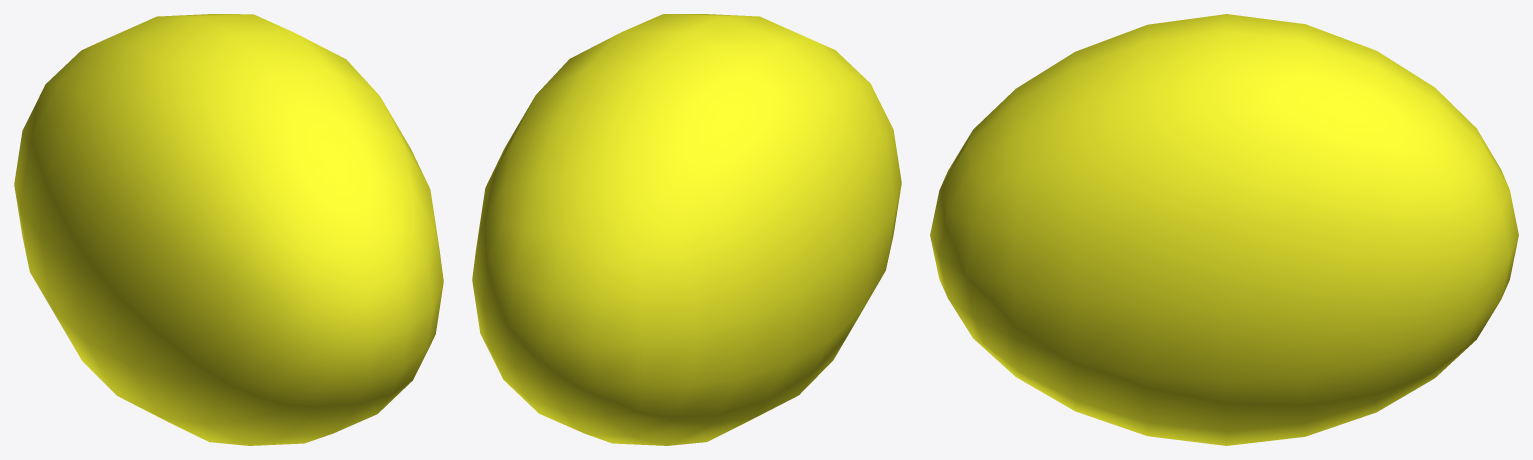
File: kentang utuh.fbx
The picture shows the model from 3 angles, left to right: view 1: azimuth 30°, elevation 25°; view 2: azimuth 150°, elevation 25°; view 3: azimuth 270°, elevation 25°; orthographic projection. The views are drawn at different scales.
Parts seen in each view (by area): view 1: kentang; view 2: kentang; view 3: kentang.
Part boxes in pixels (x1=…): kentang: x1=14, y1=14, x2=443, y2=445; kentang: x1=472, y1=14, x2=901, y2=445; kentang: x1=930, y1=14, x2=1518, y2=445.
Size of the model in its own units: 235 by 274 by 369.
